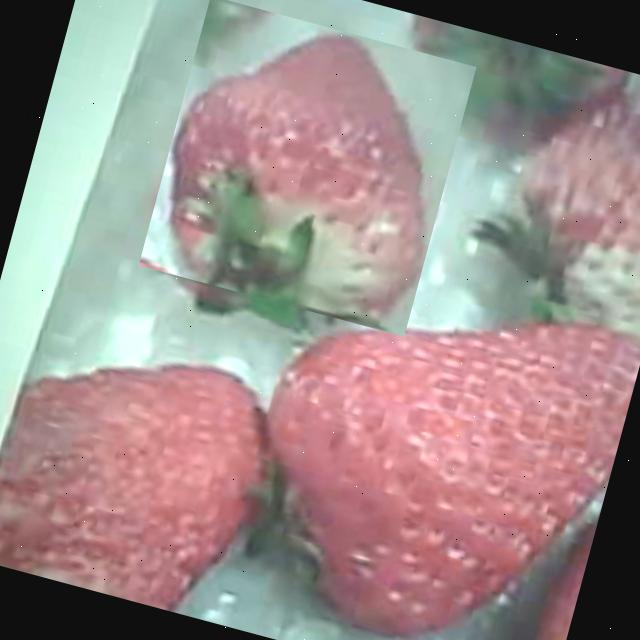ripe: (227, 245, 640, 640), (138, 0, 476, 336)
